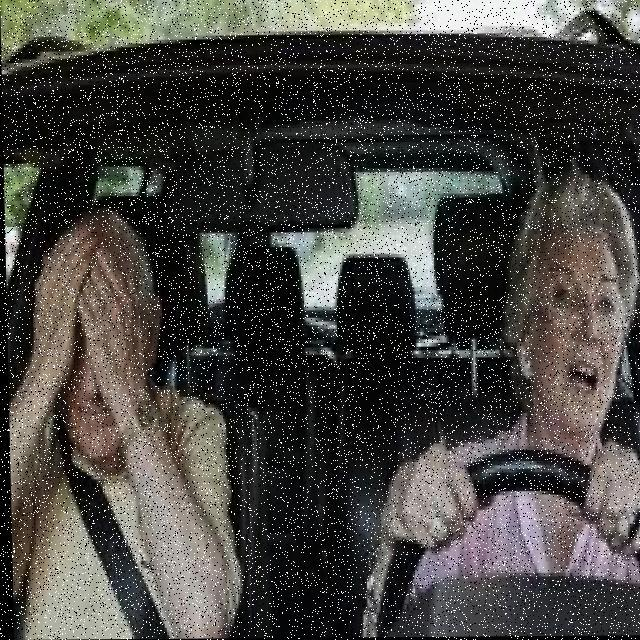seatbelt: (38, 442, 182, 640)
